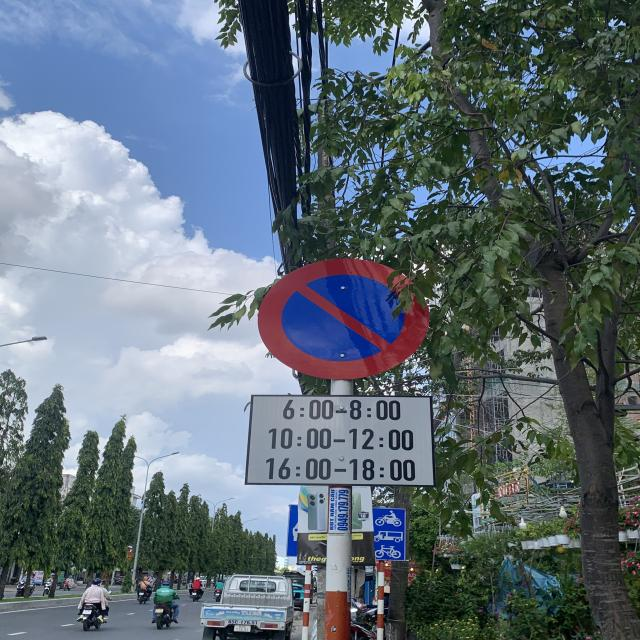Cam_Dau_Xe: (255, 258, 432, 380)
